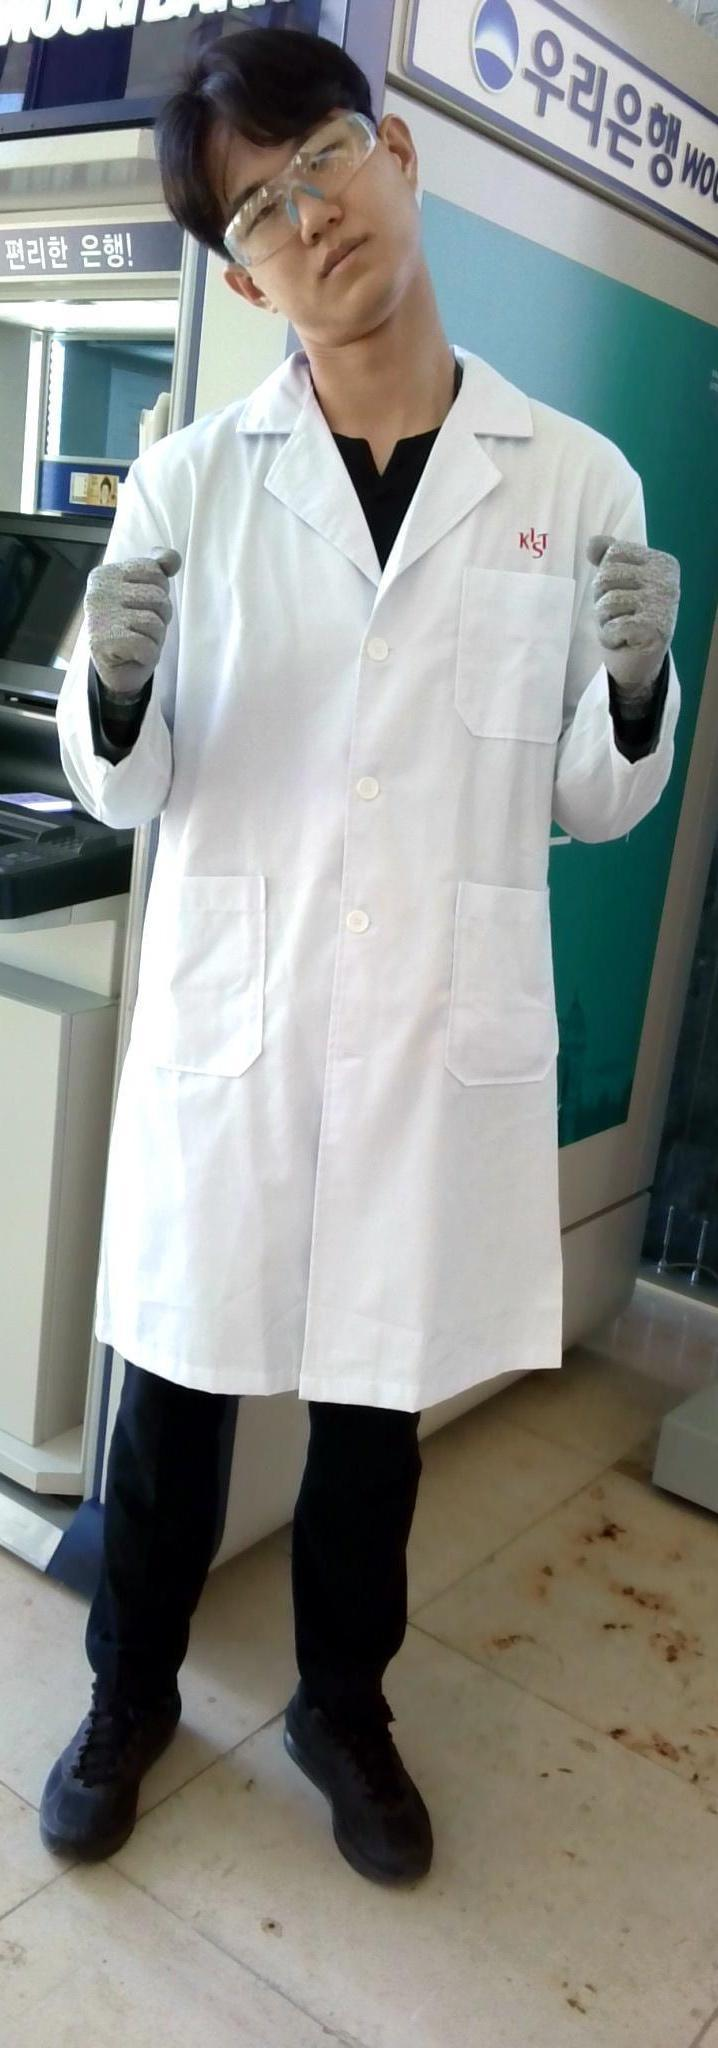lab_coat: (170, 404, 597, 1401)
